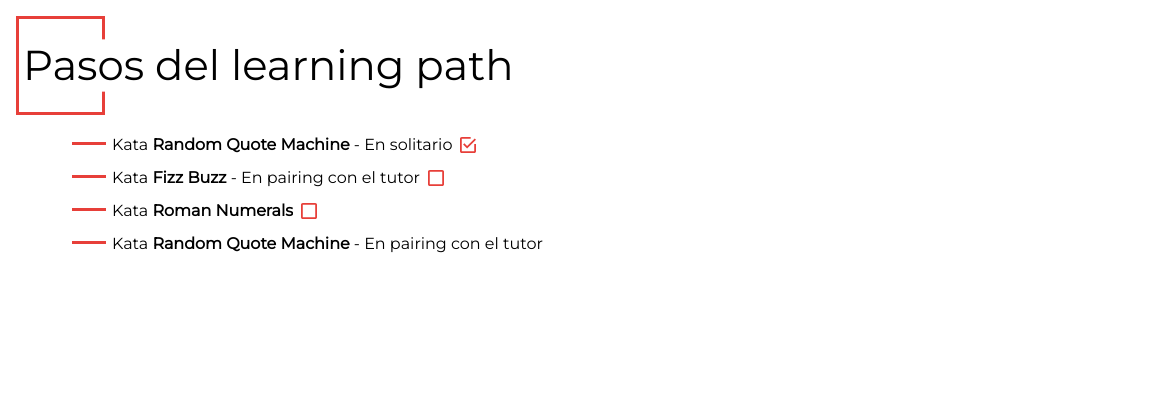
Test: listado de pasos › si una kata no tiene descripción, informa al usuario
The width and height of the screenshot is (1165, 414).
Click the button "Kata Fizz Buzz - En pairing con el tutor" at point(262, 178), box left=104, top=167, right=420, bottom=189
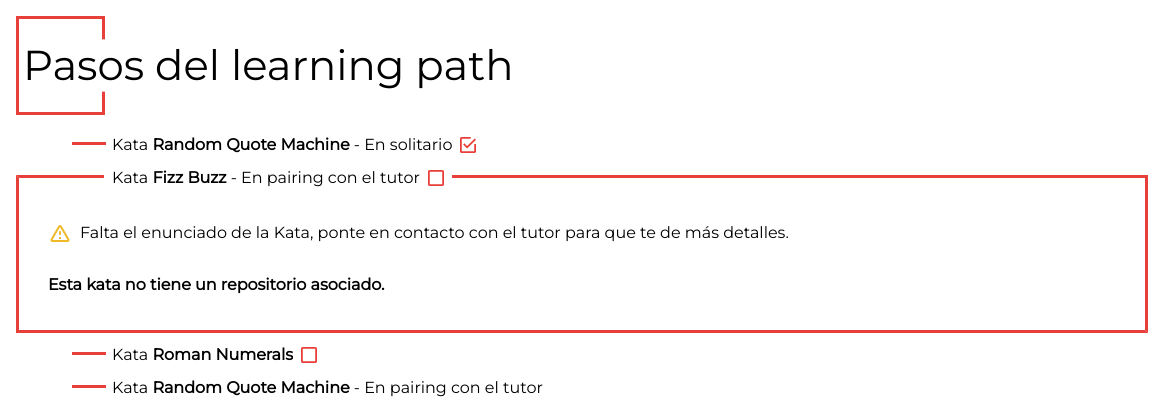
Now the text "Falta el enunciado de la kata, ponte en contacto con el tutor para que te de más detalles" is shown, box left=80, top=223, right=789, bottom=242
